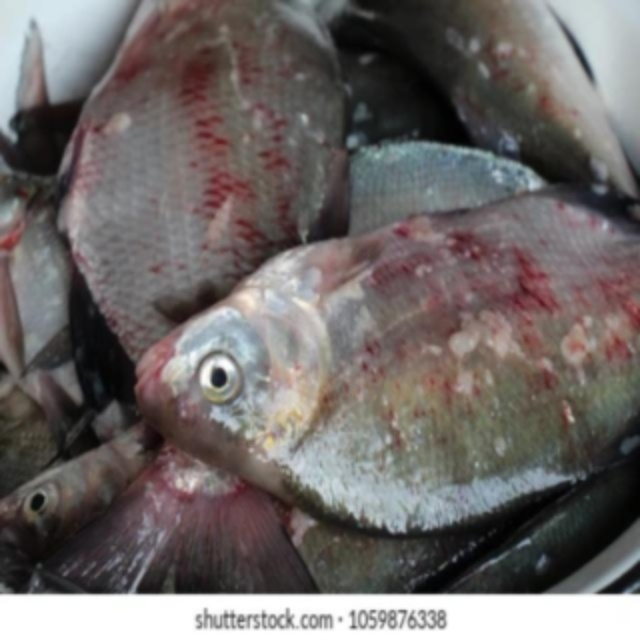EUS Disease: (1, 3, 640, 594), (163, 188, 640, 516), (69, 0, 360, 300), (408, 6, 640, 190)
